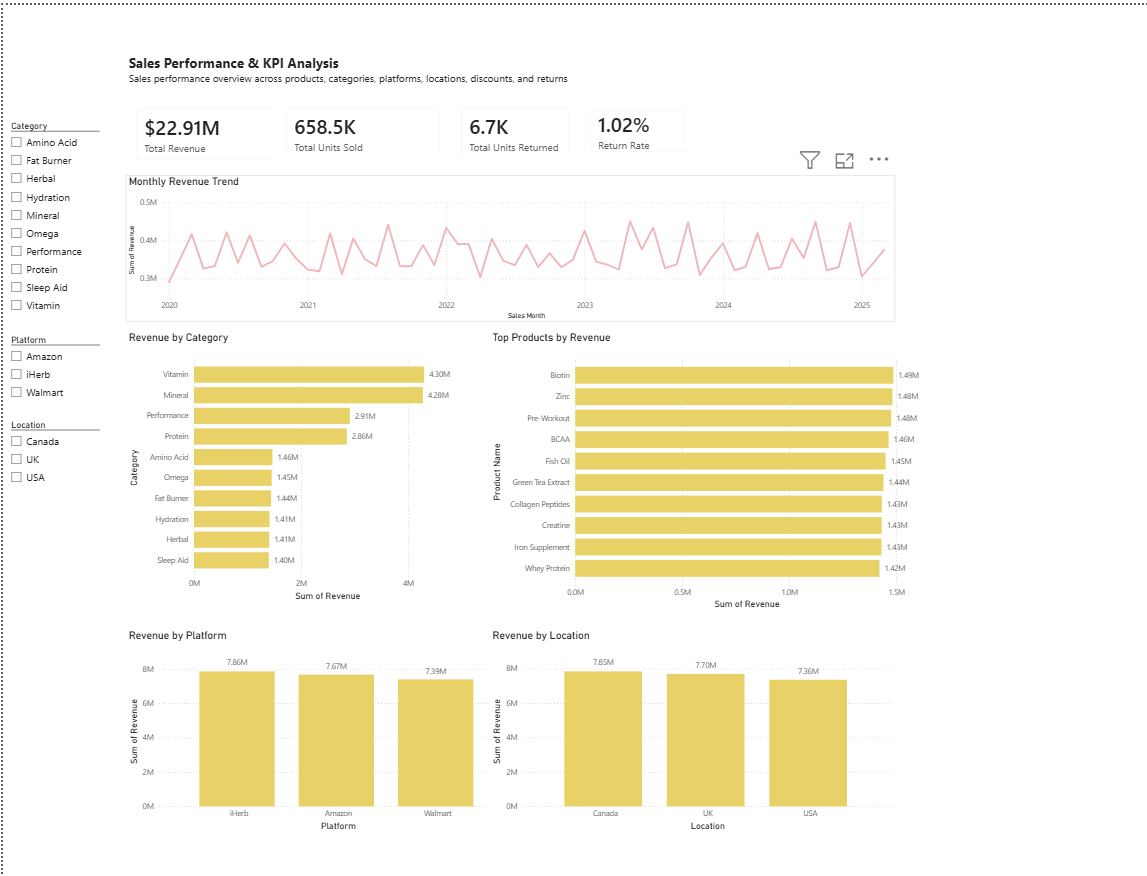

Layout of this report page (visuals, bound fields, positions):
{"tool":"powerbi","page":{"name":"Page 1 - Executive Sales Overview","canvas":[2200,1400],"ordinal":0},"visuals":[{"type":"cardVisual","fields":{"Data":["sales.Total Revenue"]},"box":[195,147.5,280,115],"z":0},{"type":"cardVisual","fields":{"Data":["sales.Total Units Returned"]},"box":[715,147.5,207.5,110],"z":1000},{"type":"cardVisual","fields":{"Data":["sales.Total Units Sold"]},"box":[435,147.5,280,110],"z":2000},{"type":"cardVisual","fields":{"Data":["sales.Return Rate"]},"box":[922.5,150,188.8,102.5],"z":3000},{"type":"lineChart","title":"Monthly Revenue Trend","fields":{"Y":["Sum(sales.Revenue)"],"Category":["sales.Sales Month"]},"box":[196,272,1232,236],"z":4000},{"type":"clusteredBarChart","title":"Revenue by Category","fields":{"Category":["sales.Category"],"Y":["Sum(sales.Revenue)"]},"box":[196,522,552,436],"z":5000},{"type":"clusteredColumnChart","title":"Revenue by Platform","fields":{"Category":["sales.Platform"],"Y":["Sum(sales.Revenue)"]},"box":[196,998,632,328],"z":6000},{"type":"clusteredColumnChart","title":"Revenue by Location","fields":{"Category":["sales.Location"],"Y":["Sum(sales.Revenue)"]},"box":[778,998,650,328],"z":7000},{"type":"barChart","title":"Top Products by Revenue","fields":{"Category":["sales.Product Name"],"Y":["Sum(sales.Revenue)"]},"box":[778,522,706.7,450],"z":8000},{"type":"textbox","box":[195,72.5,1332,74],"z":13000},{"type":"slicer","fields":{"Values":["sales.Category"]},"box":[0,180,167.5,327.5],"z":14000},{"type":"slicer","fields":{"Values":["sales.Platform"]},"box":[0,522,168,120],"z":15000},{"type":"slicer","fields":{"Values":["sales.Location"]},"box":[0,658,168,150],"z":16000}]}

Visuals, with their boxes on the page's 2200x1400 design canvas (x1, y1, x2, y2). These are canvas units, not pixel positions in the 1147x876 screenshot, which may show the page scaled, cropped or inside an application window:
cardVisual - sales.Total Revenue: detection(195, 148, 475, 262)
cardVisual - sales.Total Units Returned: detection(715, 148, 922, 258)
cardVisual - sales.Total Units Sold: detection(435, 148, 715, 258)
cardVisual - sales.Return Rate: detection(922, 150, 1111, 252)
"Monthly Revenue Trend" lineChart: detection(196, 272, 1428, 508)
"Revenue by Category" clusteredBarChart: detection(196, 522, 748, 958)
"Revenue by Platform" clusteredColumnChart: detection(196, 998, 828, 1326)
"Revenue by Location" clusteredColumnChart: detection(778, 998, 1428, 1326)
"Top Products by Revenue" barChart: detection(778, 522, 1485, 972)
textbox: detection(195, 72, 1527, 146)
slicer - sales.Category: detection(0, 180, 168, 508)
slicer - sales.Platform: detection(0, 522, 168, 642)
slicer - sales.Location: detection(0, 658, 168, 808)
